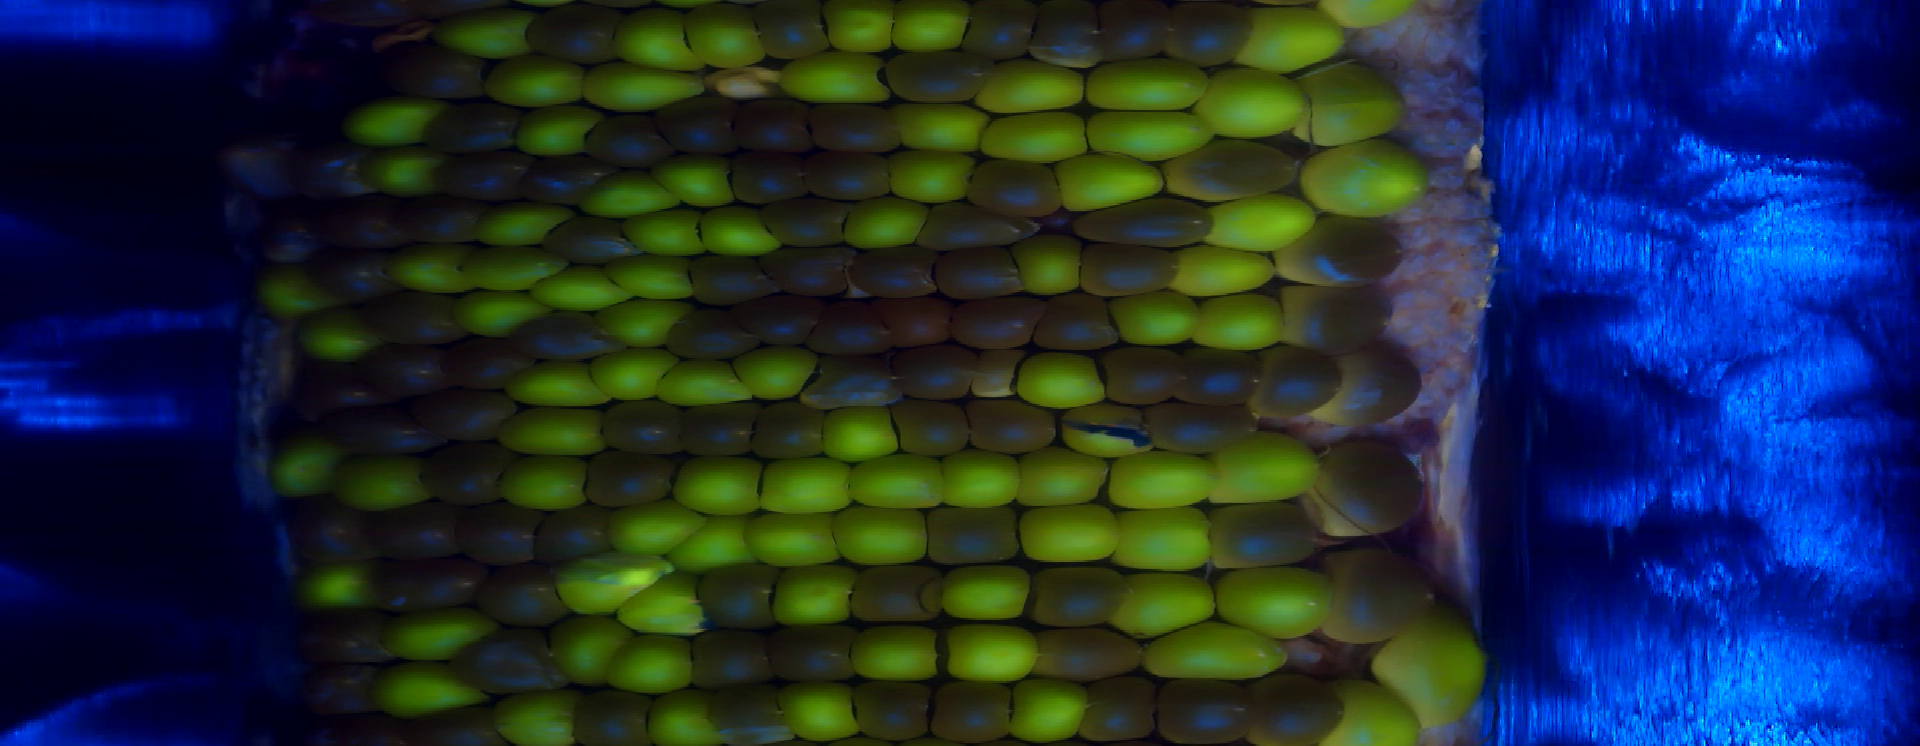fluorescent: (1371, 608, 1488, 726), (1298, 141, 1435, 218), (1213, 566, 1338, 643), (1294, 60, 1404, 142), (1139, 624, 1291, 681), (1109, 567, 1227, 638), (1202, 65, 1310, 137), (1231, 10, 1348, 76), (1209, 436, 1322, 503), (1084, 54, 1212, 111), (1104, 450, 1224, 511), (1080, 108, 1218, 160), (369, 658, 492, 717), (1111, 503, 1216, 572), (1051, 152, 1174, 208), (1202, 194, 1319, 252), (1322, 676, 1422, 745), (580, 62, 720, 110), (673, 450, 768, 519), (551, 551, 667, 608), (669, 512, 769, 577), (1018, 501, 1122, 563), (496, 448, 598, 512), (973, 109, 1093, 163), (545, 617, 637, 687), (492, 404, 613, 457), (620, 572, 718, 637), (969, 60, 1089, 113), (1011, 442, 1114, 503), (829, 503, 932, 565), (338, 448, 436, 512), (767, 559, 857, 627), (774, 53, 898, 103), (940, 621, 1040, 684), (613, 10, 707, 76), (1167, 243, 1283, 295), (931, 447, 1027, 510), (380, 608, 502, 657), (760, 454, 860, 514), (507, 356, 620, 409), (884, 145, 984, 203), (480, 58, 591, 110), (770, 677, 866, 739), (607, 499, 707, 557), (851, 622, 948, 682), (430, 9, 538, 61), (339, 97, 452, 147), (938, 565, 1033, 624), (845, 456, 951, 508), (594, 296, 698, 350), (744, 512, 844, 568), (609, 630, 698, 692), (1013, 350, 1109, 408), (1190, 294, 1286, 352), (888, 99, 989, 153), (697, 198, 786, 260), (1010, 677, 1092, 744), (588, 349, 683, 405), (816, 401, 905, 461), (463, 245, 573, 293), (528, 261, 632, 311), (840, 192, 931, 250), (489, 688, 580, 745), (686, 7, 767, 71), (295, 307, 388, 363), (730, 345, 817, 404), (1108, 290, 1205, 343), (1007, 234, 1095, 292), (574, 170, 677, 219), (662, 355, 752, 412), (618, 207, 711, 261), (358, 143, 448, 198), (511, 107, 607, 158), (453, 288, 552, 337), (384, 243, 474, 295), (602, 254, 698, 301), (640, 688, 719, 746), (655, 156, 736, 209), (888, 1, 978, 49), (258, 272, 340, 323), (474, 203, 577, 244), (820, 1, 899, 51), (273, 443, 340, 500), (295, 563, 376, 608), (1321, 1, 1420, 24)
nonfluorescent: (1313, 543, 1441, 646), (1302, 442, 1428, 535), (1273, 216, 1407, 282), (1280, 279, 1393, 354), (1163, 141, 1307, 197), (1319, 352, 1427, 423), (1209, 501, 1320, 568), (1156, 675, 1260, 745), (1068, 198, 1216, 247), (1020, 563, 1131, 628), (451, 635, 569, 695), (1247, 674, 1344, 746), (376, 43, 485, 105), (1249, 345, 1342, 416), (844, 563, 950, 625), (913, 198, 1035, 251), (320, 405, 460, 451), (1022, 628, 1144, 680), (1162, 2, 1258, 67), (795, 350, 901, 408), (523, 4, 621, 66), (451, 499, 544, 563), (360, 292, 471, 345), (698, 559, 782, 630), (924, 503, 1026, 562), (369, 559, 487, 609), (1074, 241, 1182, 296), (411, 387, 522, 441), (482, 561, 572, 627), (947, 293, 1051, 349), (967, 158, 1063, 219), (420, 445, 513, 507), (287, 500, 383, 560), (964, 397, 1063, 454), (285, 141, 380, 201), (735, 292, 829, 352), (580, 454, 681, 510), (509, 311, 624, 359), (707, 685, 800, 744), (656, 92, 742, 156), (1146, 402, 1258, 451), (1027, 1, 1108, 69), (1100, 342, 1187, 404), (802, 298, 896, 355), (377, 499, 462, 562), (757, 190, 850, 247), (887, 53, 993, 103), (894, 337, 977, 401), (587, 111, 675, 171), (929, 679, 1014, 741), (767, 622, 860, 679), (662, 307, 765, 358), (932, 243, 1022, 299), (358, 342, 448, 398), (1075, 677, 1158, 739), (1033, 290, 1122, 348), (298, 363, 400, 412), (598, 398, 687, 454), (531, 506, 618, 563), (811, 99, 902, 153), (850, 677, 932, 737), (519, 154, 615, 206), (216, 138, 299, 197), (294, 616, 396, 664), (310, 247, 404, 299), (850, 245, 937, 300), (1176, 349, 1262, 404), (318, 196, 411, 247), (689, 628, 774, 685), (873, 294, 955, 352), (890, 399, 972, 457), (253, 196, 322, 263), (441, 149, 528, 202), (209, 184, 266, 265), (546, 214, 637, 265), (757, 246, 857, 292), (573, 691, 655, 746), (733, 96, 813, 152), (429, 102, 516, 153), (1093, 2, 1171, 60), (756, 399, 828, 461), (448, 338, 531, 391), (687, 254, 776, 303), (804, 149, 895, 197), (758, 1, 831, 60), (729, 151, 808, 205), (298, 664, 386, 712), (400, 195, 486, 244), (682, 403, 757, 457), (964, 2, 1035, 59), (962, 342, 1029, 398), (404, 709, 502, 745), (306, 1, 425, 24), (331, 717, 408, 746)
